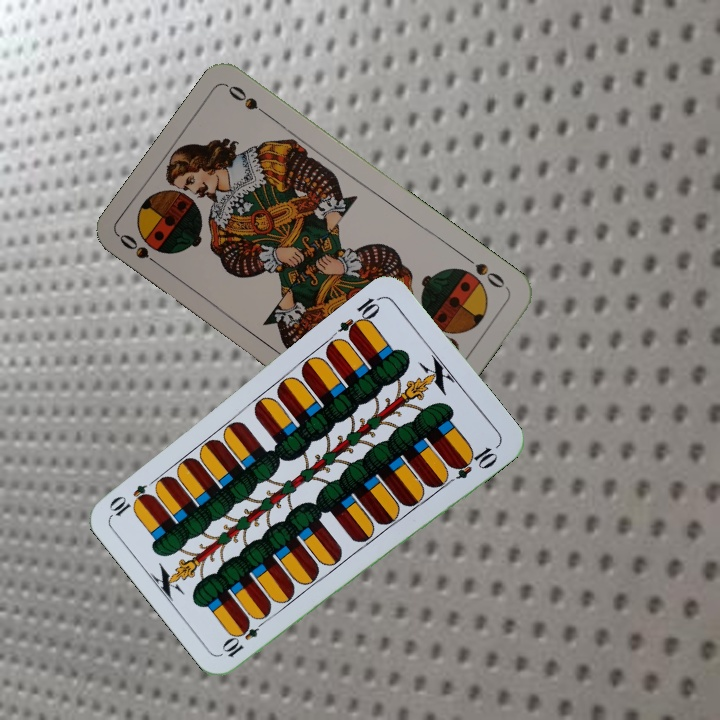E10: (334, 292, 384, 342), (219, 613, 270, 660)
SO: (115, 229, 167, 272), (460, 251, 508, 291)
